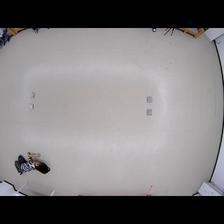fall: (13, 152, 51, 175)
